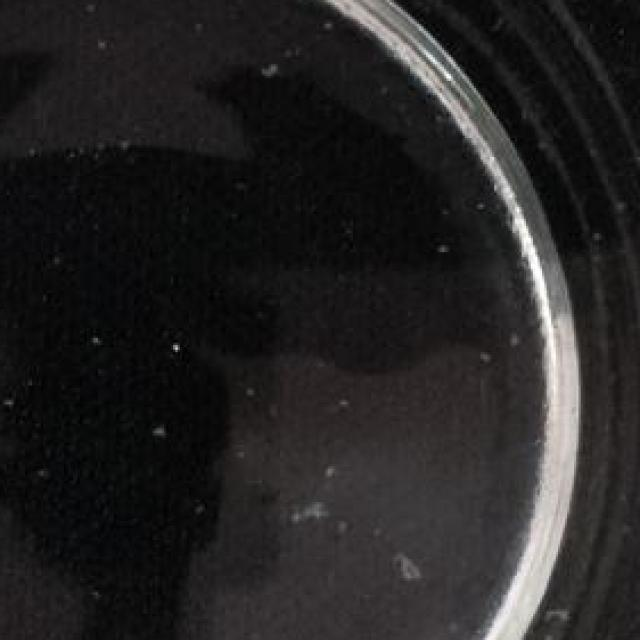Microplastic: (383, 523, 426, 590), (292, 480, 337, 538), (310, 452, 350, 512), (155, 331, 191, 364), (253, 52, 287, 84)
